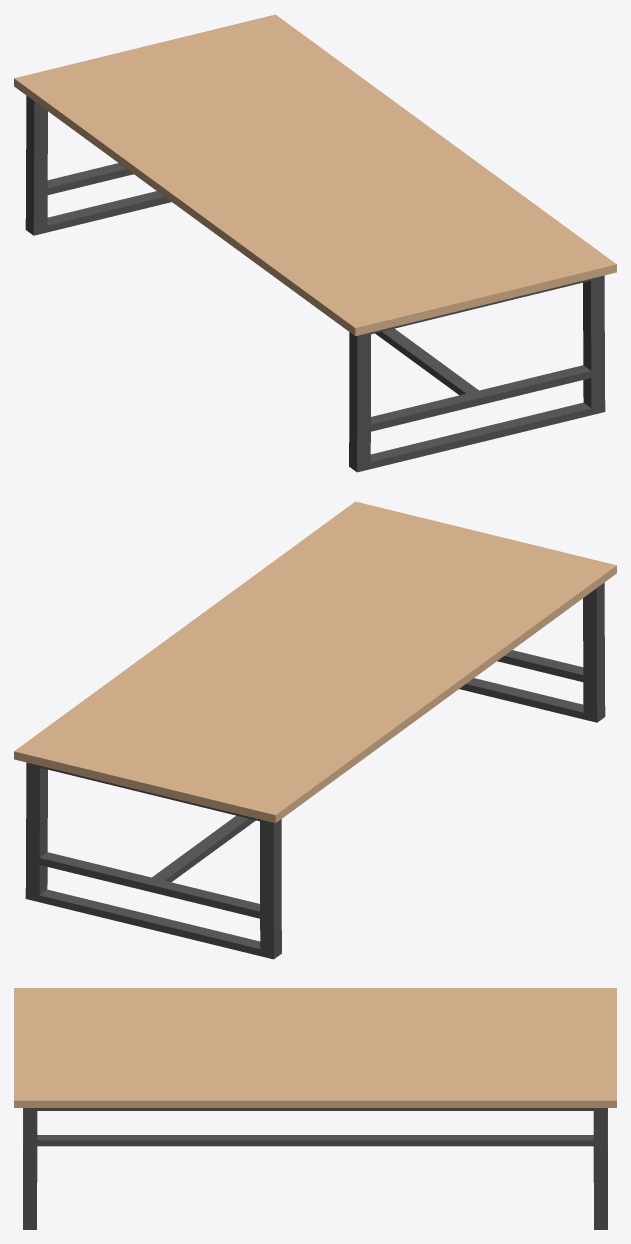
File: table meeting1.fbx
3 views of the same model, one above another, from view 1: azimuth 30°, elevation 25°; view 2: azimuth 150°, elevation 25°; view 3: azimuth 270°, elevation 25° (orthographic). The views are drawn at different scales.
Parts seen in each view (by area): view 1: stoleshn, osnov; view 2: stoleshn, osnov; view 3: stoleshn, osnov.
Boxes of the visible parts, <box> form: stoleshn: <box>14,14,616,335</box>; osnov: <box>25,95,605,472</box>; stoleshn: <box>14,501,616,822</box>; osnov: <box>25,582,605,959</box>; stoleshn: <box>14,988,616,1107</box>; osnov: <box>23,1108,607,1229</box>.
Size of the model in its own units: 263 by 144 by 594.
